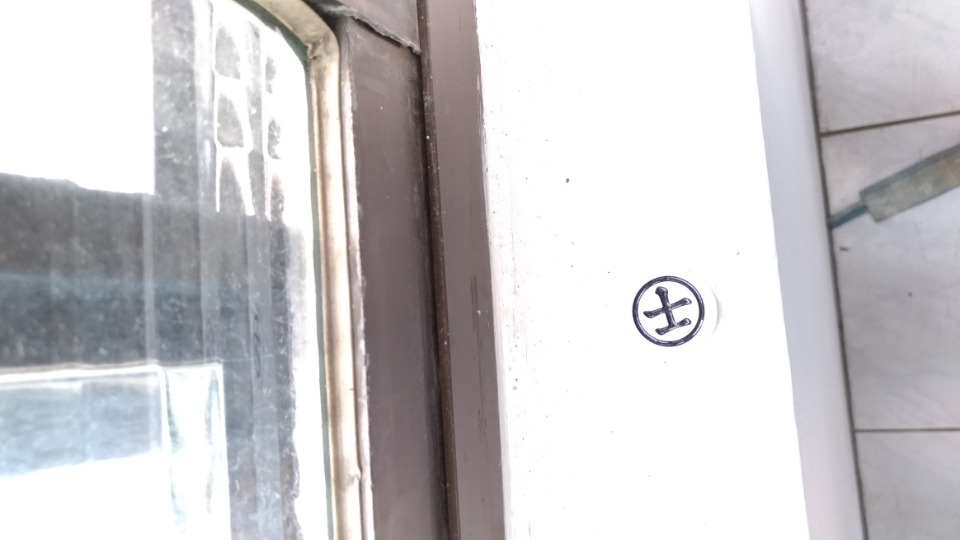b-advisor: (601, 260, 747, 371)
